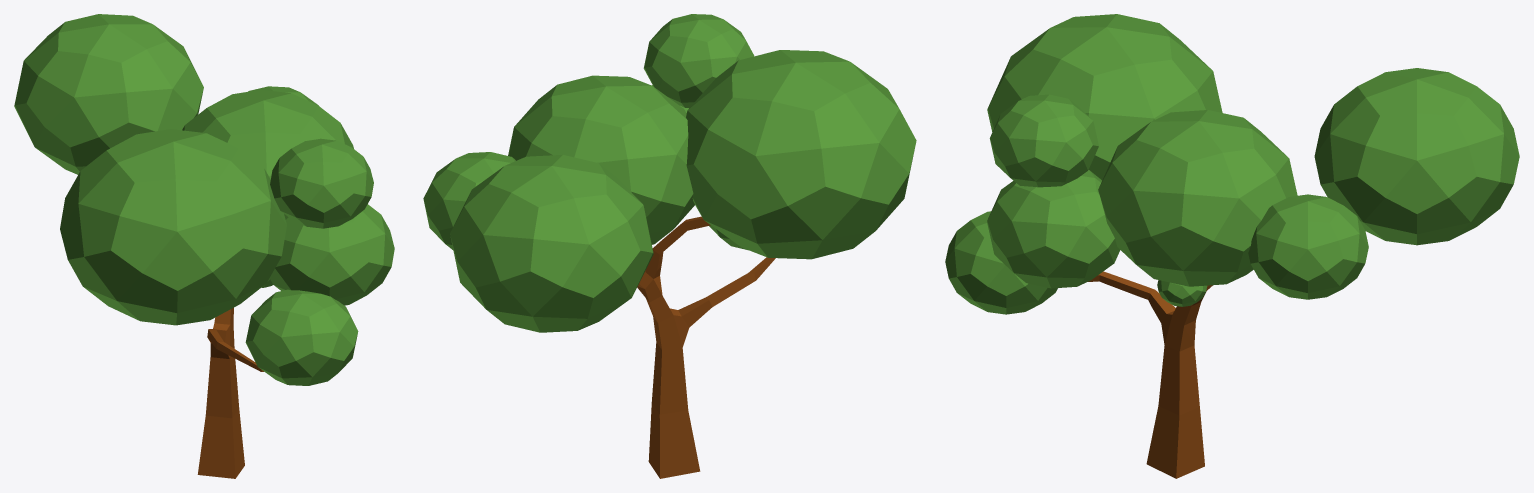
Rendered from tree_1.fbx.
3 views of the same model, side by side, from view 1: azimuth 30°, elevation 25°; view 2: azimuth 150°, elevation 25°; view 3: azimuth 270°, elevation 25° (orthographic). The views are drawn at different scales.
Visible parts, largest first — view 1: bush.034, bush.013, bush.016, bush.036, bush.026, bush.040, Cube.001; view 2: bush.034, bush.013, bush.026, Cube.001, bush.040, bush.015; view 3: bush.013, bush.026, bush.034, bush.036, bush.015, Cube.001, bush.040, bush.016, bush.019.
Part boxes in pixels (left/top/right/bottom): bush.034: left=60, top=129, right=286, bottom=325; bush.013: left=14, top=14, right=203, bottom=174; bush.016: left=245, top=289, right=358, bottom=385; bush.036: left=269, top=204, right=394, bottom=305; bush.026: left=182, top=89, right=353, bottom=179; bush.040: left=270, top=138, right=373, bottom=228; Cube.001: left=197, top=307, right=263, bottom=478; bush.034: left=686, top=50, right=916, bottom=259; bush.013: left=450, top=155, right=653, bottom=332; bush.026: left=508, top=75, right=694, bottom=244; Cube.001: left=637, top=216, right=775, bottom=478; bush.040: left=643, top=14, right=754, bottom=107; bush.015: left=423, top=152, right=515, bottom=249; bush.013: left=1314, top=68, right=1519, bottom=245; bush.026: left=1098, top=110, right=1297, bottom=286; bush.034: left=987, top=14, right=1222, bottom=180; bush.036: left=987, top=170, right=1120, bottom=288; bush.015: left=1248, top=194, right=1368, bottom=299; Cube.001: left=1088, top=271, right=1212, bottom=478; bush.040: left=989, top=94, right=1098, bottom=187; bush.016: left=945, top=211, right=1057, bottom=314; bush.019: left=1157, top=280, right=1207, bottom=306.
Size of the model in its own units: 973 by 1013 by 1327.
